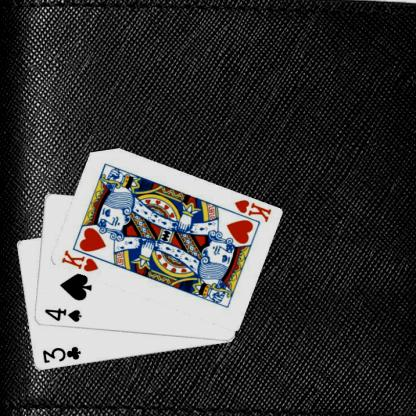3C: (39, 344, 82, 365)
4S: (42, 306, 82, 324)
KH: (231, 197, 272, 224), (59, 248, 99, 273)
